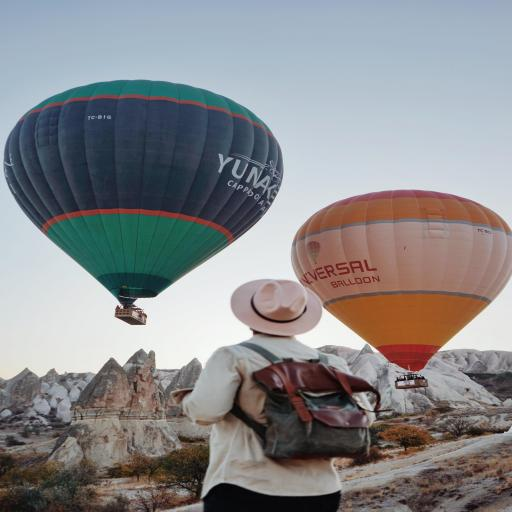hot air ballon: (3, 80, 281, 325), (291, 188, 512, 390)
